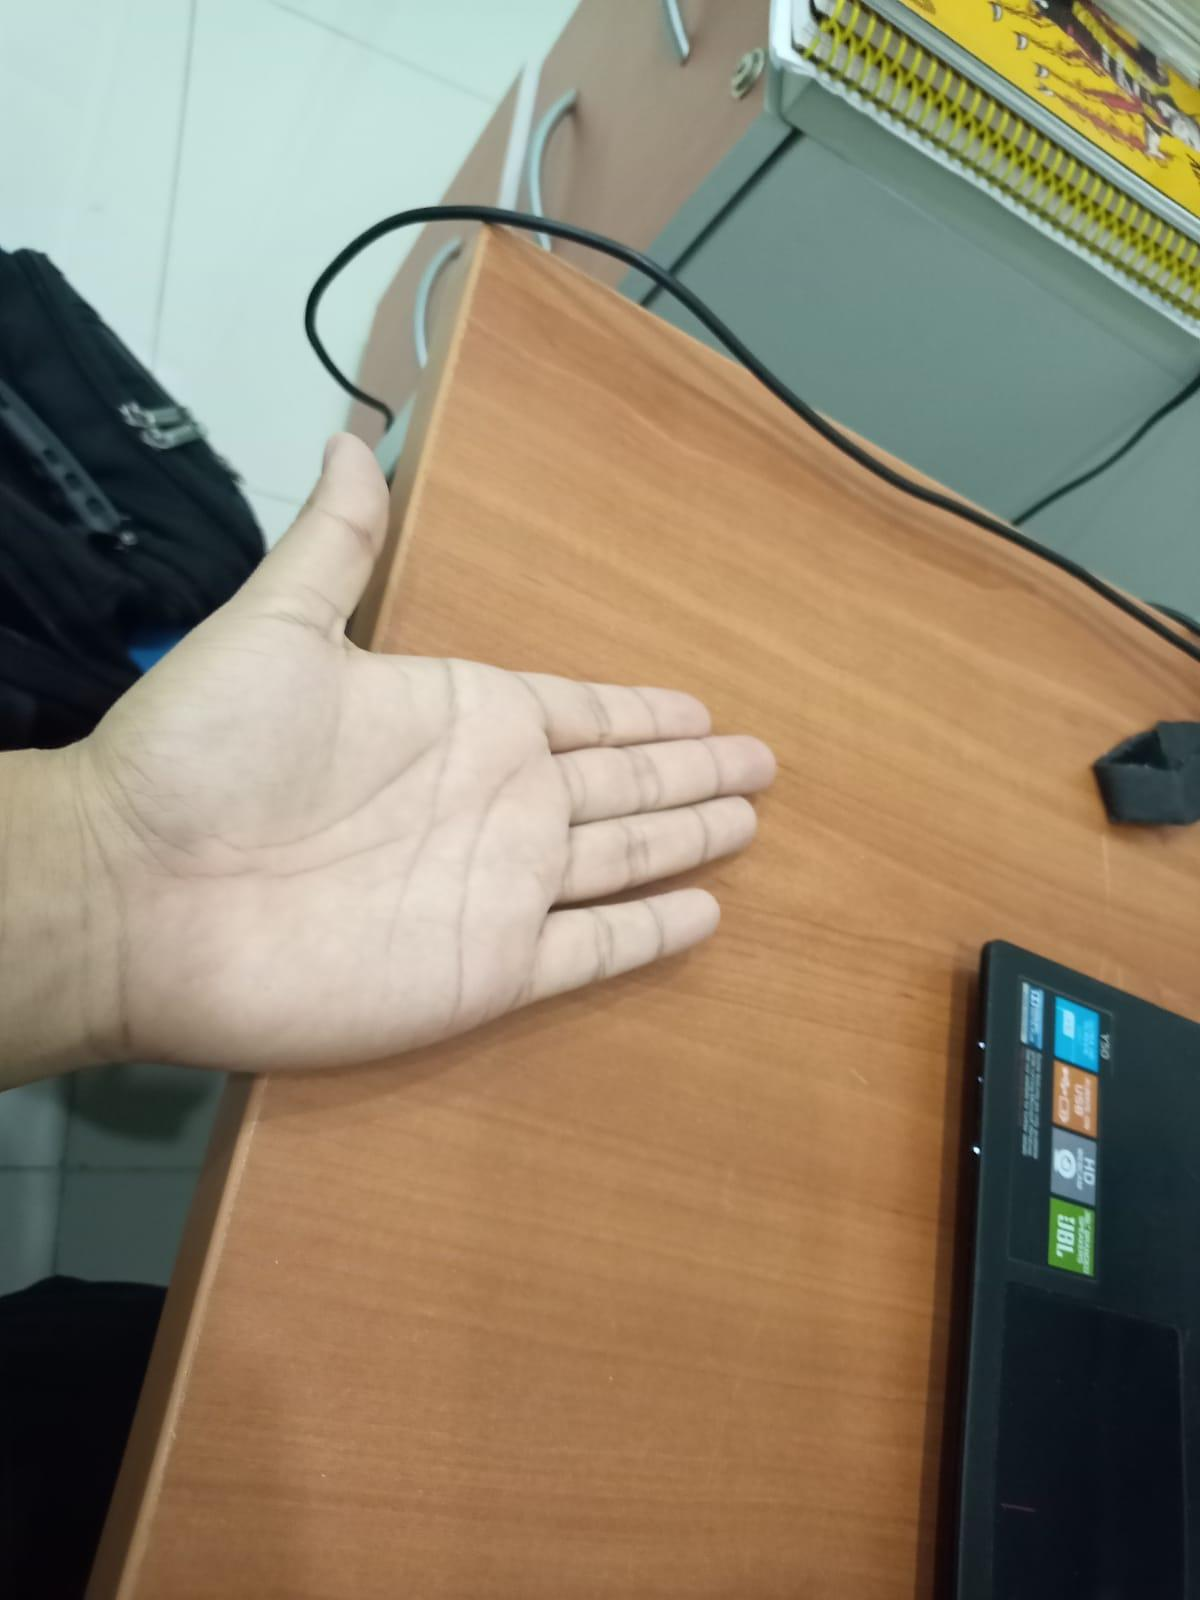Paper: (98, 428, 794, 1114)
